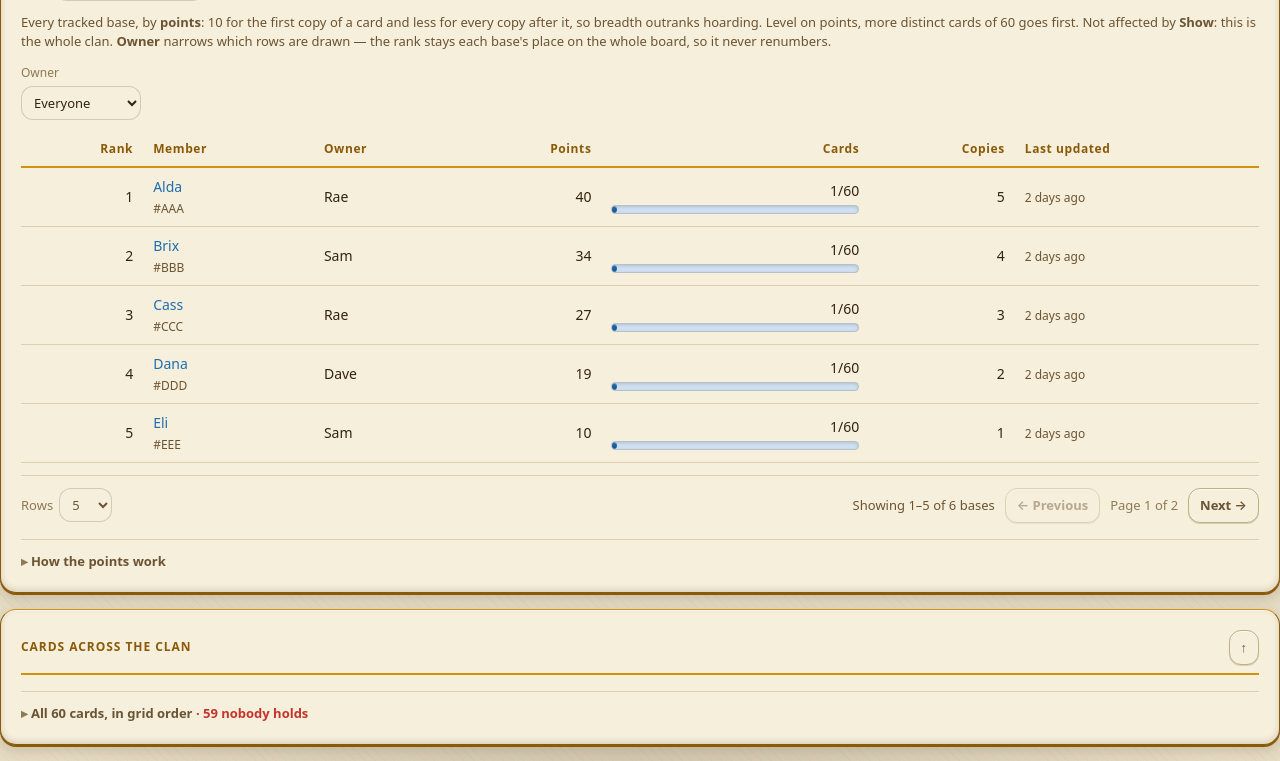
Test: the leaderboard’s owner filter and staleness column › clamps a page number the filter has left past the end of the board
The image size is (1280, 761).
(page scrolled)
Check: the link "Cass" is shown, box [153,295,183,314]
Click the button "Next →" at [1224, 505], box [1188,488,1259,523]
(page scrolled)
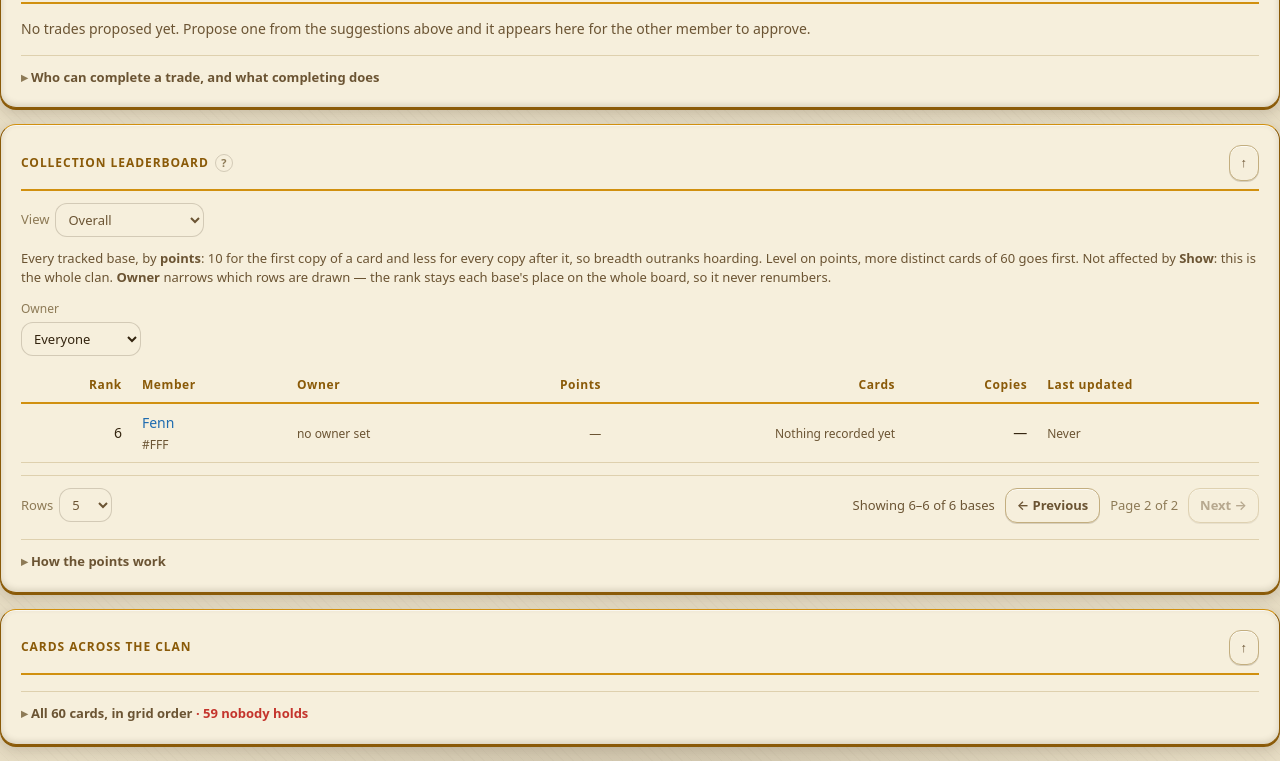
Check: the text "Page 2 of 2" is shown, box [1110,496,1178,515]
Select "Rae" in the dropdown labelled "Owner" at [81, 339], box [21,322,141,356]
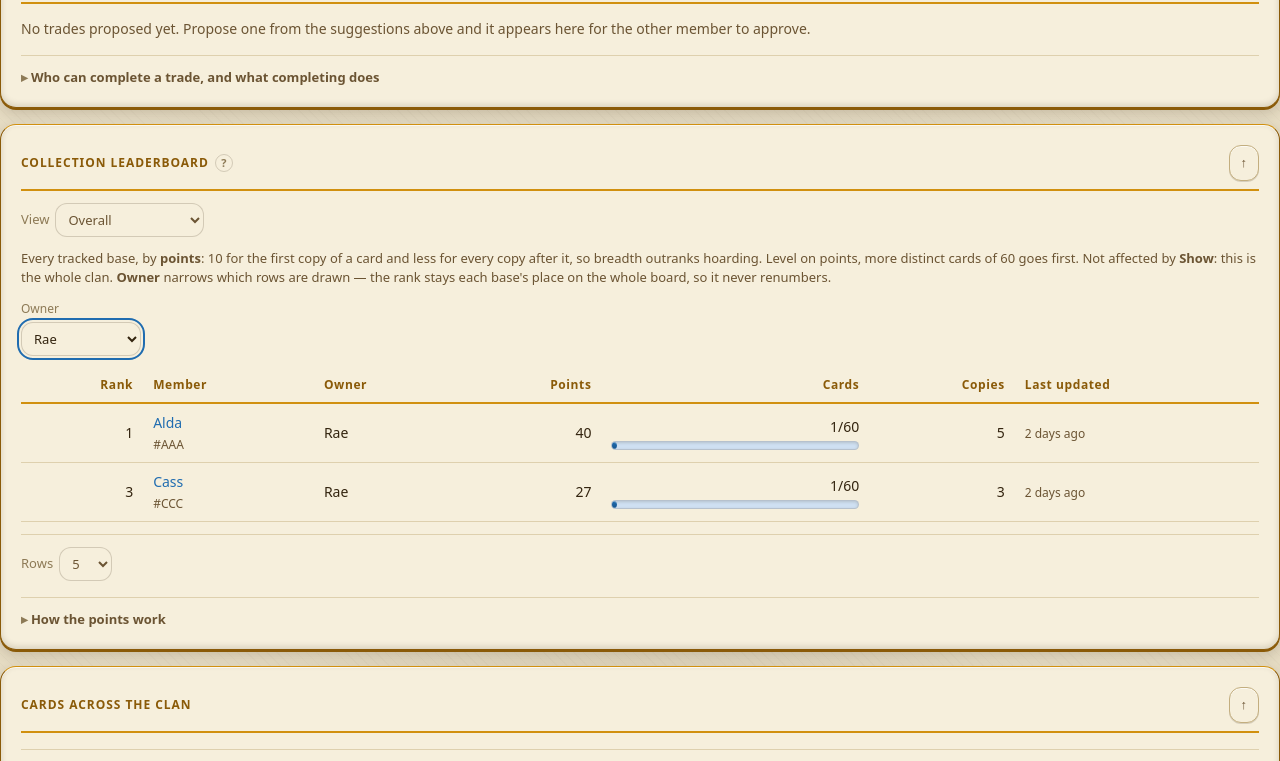
Check: the text "Alda" is shown, box [153,413,182,432]
Check: the text "Cass" is shown, box [153,472,183,491]
